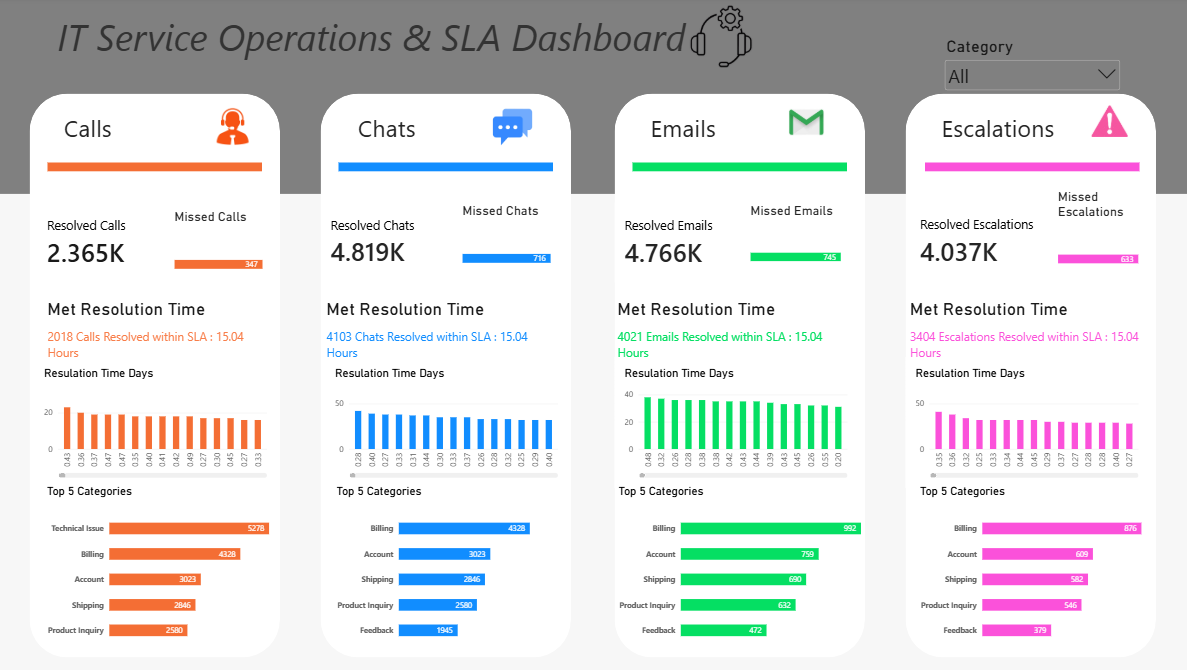

This screenshot's page, from the dashboard's own definition file:
{"tool":"powerbi","page":{"name":"Page 1","canvas":[1920,1080],"ordinal":0},"visuals":[{"type":"shape","box":[0,4.8,1920.7,310.2],"z":0},{"type":"shape","box":[1462.6,155.1,398.4,897.1],"z":1000},{"type":"shape","box":[999.7,155.1,398.4,897.1],"z":2000},{"type":"shape","box":[532.1,155.1,398.4,897.1],"z":3000},{"type":"shape","box":[69.2,155.1,398.4,897.1],"z":4000},{"type":"cardVisual","fields":{"Data":["customer_support_tickets.Total Tickets"]},"box":[81.1,336.4,238.6,112.1],"z":5000},{"type":"cardVisual","title":"R","fields":{"Data":["customer_support_tickets.Total Tickets"]},"box":[532.1,314.9,281.5,155.1],"z":6000},{"type":"cardVisual","fields":{"Data":["customer_support_tickets.Total Tickets"]},"box":[999.7,322.1,280.6,141.7],"z":7000},{"type":"cardVisual","fields":{"Data":["customer_support_tickets.Total Tickets"]},"box":[1469.7,322.1,280.6,138.9],"z":8000},{"type":"clusteredColumnChart","title":"Resulation Time Days","fields":{"Category":["customer_support_tickets.resolution_days"],"Y":["customer_support_tickets.Total Tickets"]},"box":[76.3,575,386.5,207.6],"z":9000},{"type":"textbox","title":"Met Resolution Time","box":[97.8,482,369.8,109.8],"z":10000},{"type":"clusteredBarChart","title":"Top 5 Categories","fields":{"Category":["customer_support_tickets.category"],"Y":["customer_support_tickets.Total Tickets"]},"box":[81.1,763.5,419.9,288.7],"z":11000},{"type":"shape","box":[97.8,264.8,341.2,14.3],"z":12000},{"type":"textbox","box":[124.1,183.7,343.6,81.1],"z":13000},{"type":"textbox","box":[591.7,183.7,338.8,81.1],"z":14000},{"type":"shape","box":[560.7,264.8,341.2,14.3],"z":15000},{"type":"textbox","box":[1057,183.7,224.3,713.4],"z":16000},{"type":"shape","box":[1028.3,264.8,341.2,14.3],"z":17000},{"type":"textbox","box":[1519.8,183.7,260.1,713.4],"z":18000},{"type":"shape","box":[1493.6,264.8,341.2,14.3],"z":19000},{"type":"textbox","title":"Met Resolution Time","box":[541.6,482,388.9,109.8],"z":20000},{"type":"textbox","title":"Met Resolution Time","box":[1004.5,482,388.9,109.8],"z":21000},{"type":"textbox","title":"Met Resolution Time","box":[1469.7,482,388.9,109.8],"z":22000},{"type":"clusteredColumnChart","title":"Resulation Time Days","fields":{"Category":["customer_support_tickets.resolution_days"],"Y":["customer_support_tickets.Total Tickets"]},"box":[999.7,575,386.5,207.6],"z":23000},{"type":"clusteredColumnChart","title":"Resulation Time Days","fields":{"Category":["customer_support_tickets.resolution_days"],"Y":["customer_support_tickets.Total Tickets"]},"box":[1462.6,575,386.5,207.6],"z":24000},{"type":"clusteredColumnChart","title":"Resulation Time Days","fields":{"Category":["customer_support_tickets.resolution_days"],"Y":["customer_support_tickets.Total Tickets"]},"box":[539.2,575,386.5,207.6],"z":25000},{"type":"clusteredBarChart","title":"Top 5 Categories","fields":{"Category":["customer_support_tickets.category"],"Y":["customer_support_tickets.Total Tickets"]},"box":[541.6,763.5,419.9,288.7],"z":26000},{"type":"clusteredBarChart","title":"Top 5 Categories","fields":{"Category":["customer_support_tickets.category"],"Y":["customer_support_tickets.Total Tickets"]},"box":[990.2,763.5,419.9,288.7],"z":27000},{"type":"clusteredBarChart","title":"Top 5 Categories","fields":{"Category":["customer_support_tickets.category"],"Y":["customer_support_tickets.Total Tickets"]},"box":[1469.7,763.5,419.9,288.7],"z":28000},{"type":"clusteredBarChart","title":"Missed Chats","fields":{"Y":["customer_support_tickets.SLA MissedO"]},"box":[742,314.9,188.5,162.2],"z":29000},{"type":"image","box":[796.9,176.6,81.1,64.4],"z":30000},{"type":"image","box":[1219.2,157.5,176.6,85.9],"z":31000},{"type":"image","box":[1739.3,174.2,95.4,50.1],"z":32000},{"type":"slicer","fields":{"Values":["customer_support_tickets.category"]},"box":[1519.8,64.4,288.7,109.8],"z":33000},{"type":"textbox","box":[100.2,23.9,1150,159.9],"z":34000},{"type":"image","box":[1030.7,2.4,276.8,124.1],"z":35000},{"type":"image","box":[346,176.6,93.1,62],"z":36000},{"type":"clusteredBarChart","title":"Missed Calls","fields":{"Y":["customer_support_tickets.SLA MissedO"]},"box":[283.9,324.5,193.3,162.2],"z":37000},{"type":"clusteredBarChart","title":"Missed     Escalations","fields":{"Y":["customer_support_tickets.SLA MissedO"]},"box":[1689.2,293.5,193.3,183.7],"z":38000},{"type":"clusteredBarChart","title":"Missed Emails","fields":{"Y":["customer_support_tickets.SLA MissedO"]},"box":[1200.1,314.9,186.1,157.5],"z":39000}]}

Visuals, with their boxes in screenshot pixels (x1, y1, x2, y2), scaled from the page's 1920x1080 canvas onto the 1187x670 screenshot:
shape: x1=0 y1=3 x2=1186 y2=195
shape: x1=904 y1=96 x2=1151 y2=653
shape: x1=618 y1=96 x2=864 y2=653
shape: x1=329 y1=96 x2=575 y2=653
shape: x1=43 y1=96 x2=289 y2=653
cardVisual - customer_support_tickets.Total Tickets: x1=50 y1=209 x2=198 y2=278
"R" cardVisual: x1=329 y1=195 x2=503 y2=292
cardVisual - customer_support_tickets.Total Tickets: x1=618 y1=200 x2=792 y2=288
cardVisual - customer_support_tickets.Total Tickets: x1=909 y1=200 x2=1082 y2=286
"Resulation Time Days" clusteredColumnChart: x1=47 y1=357 x2=286 y2=486
"Met Resolution Time" textbox: x1=60 y1=299 x2=289 y2=367
"Top 5 Categories" clusteredBarChart: x1=50 y1=474 x2=310 y2=653
shape: x1=60 y1=164 x2=271 y2=173
textbox: x1=77 y1=114 x2=289 y2=164
textbox: x1=366 y1=114 x2=575 y2=164
shape: x1=347 y1=164 x2=558 y2=173
textbox: x1=653 y1=114 x2=792 y2=557
shape: x1=636 y1=164 x2=847 y2=173
textbox: x1=940 y1=114 x2=1100 y2=557
shape: x1=923 y1=164 x2=1134 y2=173
"Met Resolution Time" textbox: x1=335 y1=299 x2=575 y2=367
"Met Resolution Time" textbox: x1=621 y1=299 x2=861 y2=367
"Met Resolution Time" textbox: x1=909 y1=299 x2=1149 y2=367
"Resulation Time Days" clusteredColumnChart: x1=618 y1=357 x2=857 y2=486
"Resulation Time Days" clusteredColumnChart: x1=904 y1=357 x2=1143 y2=486
"Resulation Time Days" clusteredColumnChart: x1=333 y1=357 x2=572 y2=486
"Top 5 Categories" clusteredBarChart: x1=335 y1=474 x2=594 y2=653
"Top 5 Categories" clusteredBarChart: x1=612 y1=474 x2=872 y2=653
"Top 5 Categories" clusteredBarChart: x1=909 y1=474 x2=1168 y2=653
"Missed Chats" clusteredBarChart: x1=459 y1=195 x2=575 y2=296
image: x1=493 y1=110 x2=543 y2=150
image: x1=754 y1=98 x2=863 y2=151
image: x1=1075 y1=108 x2=1134 y2=139
slicer - customer_support_tickets.category: x1=940 y1=40 x2=1118 y2=108
textbox: x1=62 y1=15 x2=773 y2=114
image: x1=637 y1=1 x2=808 y2=78
image: x1=214 y1=110 x2=271 y2=148
"Missed Calls" clusteredBarChart: x1=176 y1=201 x2=295 y2=302
"Missed     Escalations" clusteredBarChart: x1=1044 y1=182 x2=1164 y2=296
"Missed Emails" clusteredBarChart: x1=742 y1=195 x2=857 y2=293
